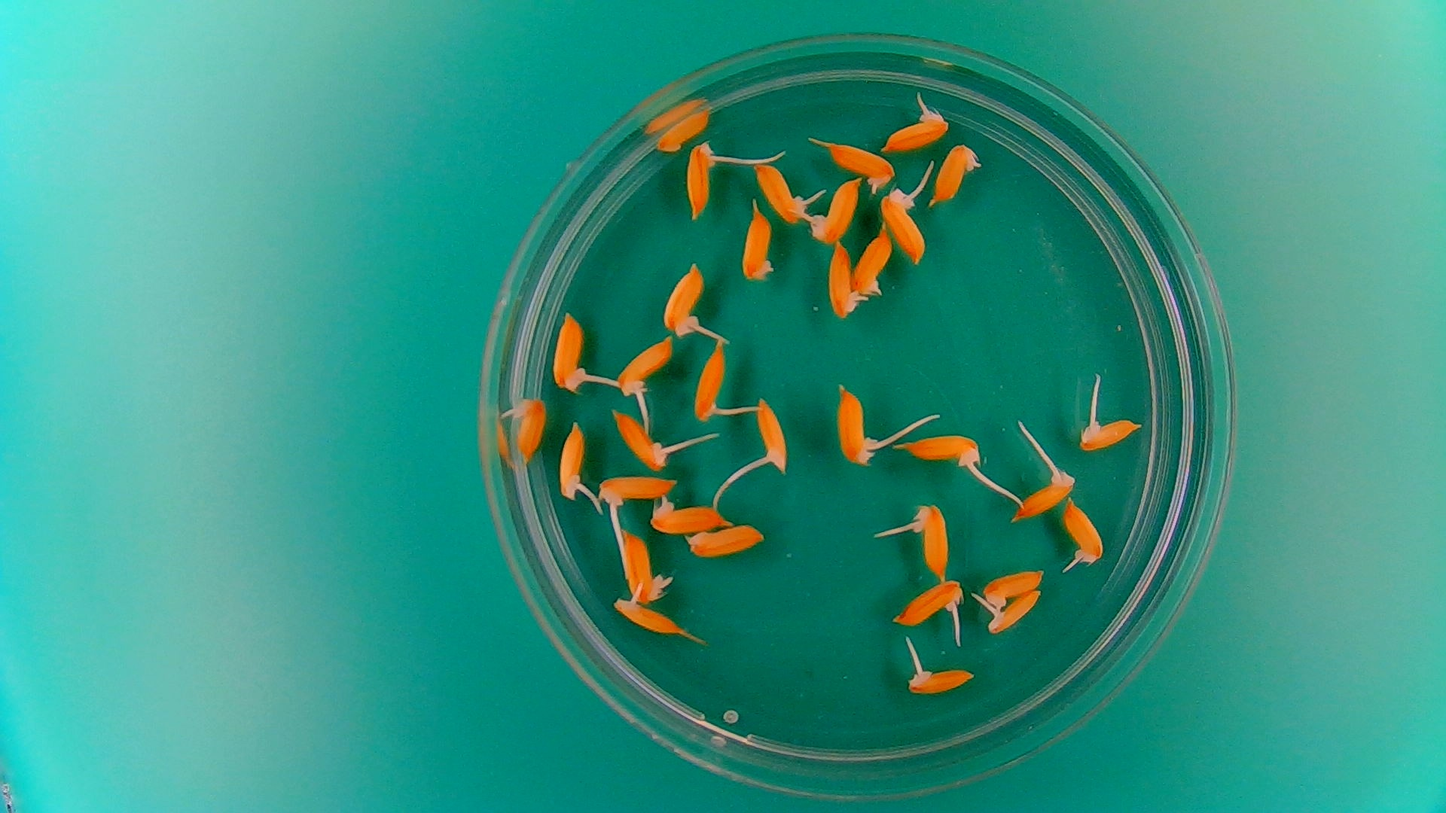no: (740, 199, 778, 285), (686, 523, 767, 562), (654, 106, 711, 154)
yes: (880, 184, 930, 266), (612, 409, 675, 471), (660, 260, 708, 339), (810, 174, 862, 245), (825, 141, 895, 193), (617, 336, 676, 397), (755, 156, 810, 221), (978, 562, 1046, 613), (901, 430, 983, 469), (825, 240, 865, 319), (1011, 470, 1072, 521), (551, 313, 589, 394), (852, 225, 894, 297), (897, 580, 962, 626), (1061, 498, 1106, 564), (930, 145, 980, 204), (837, 391, 875, 467), (879, 112, 947, 153), (985, 589, 1045, 635), (611, 597, 683, 635), (685, 139, 719, 218), (621, 534, 660, 602), (691, 346, 725, 421), (650, 502, 728, 534), (598, 475, 676, 507), (913, 504, 948, 572), (755, 400, 789, 470), (511, 395, 548, 459), (1077, 416, 1138, 454), (557, 423, 587, 500), (908, 665, 975, 696)
